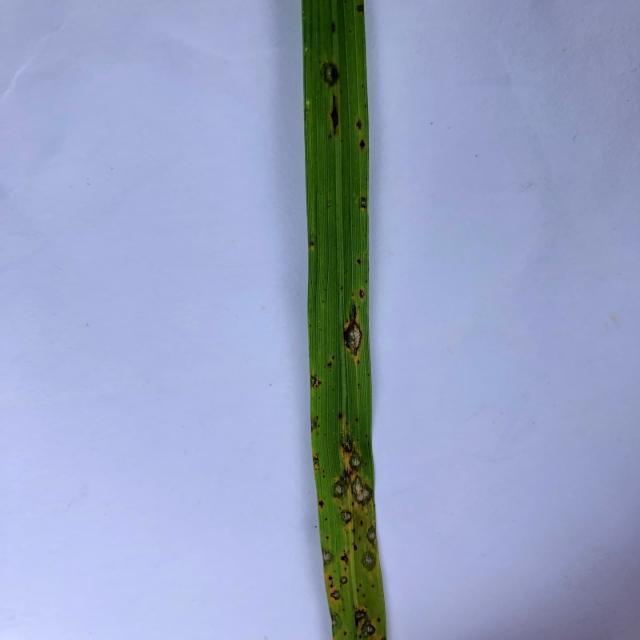Leaf_Blast: (341, 304, 365, 356), (350, 602, 380, 638), (340, 433, 365, 470), (350, 475, 373, 508), (328, 477, 348, 497), (335, 505, 354, 523), (318, 546, 336, 564), (361, 548, 375, 570), (365, 526, 378, 543)
